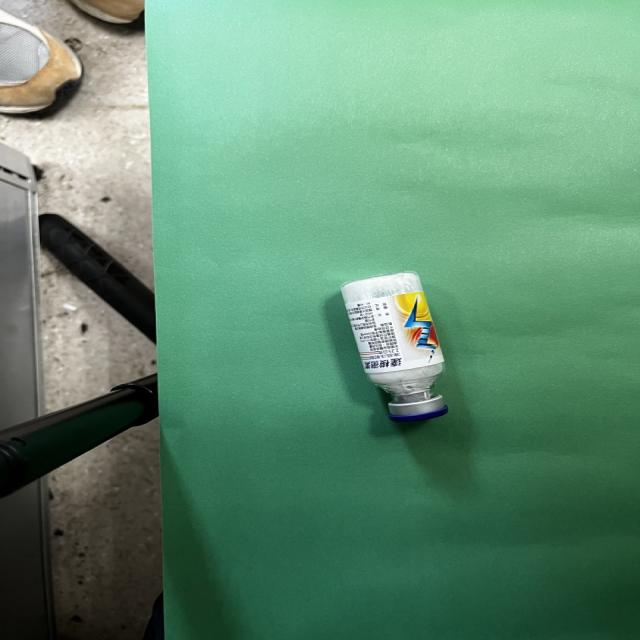Vials: (341, 272, 447, 422)
